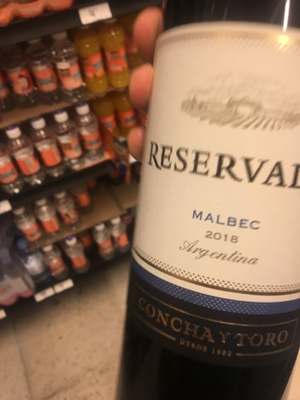reservado malbec: (122, 9, 300, 390)
